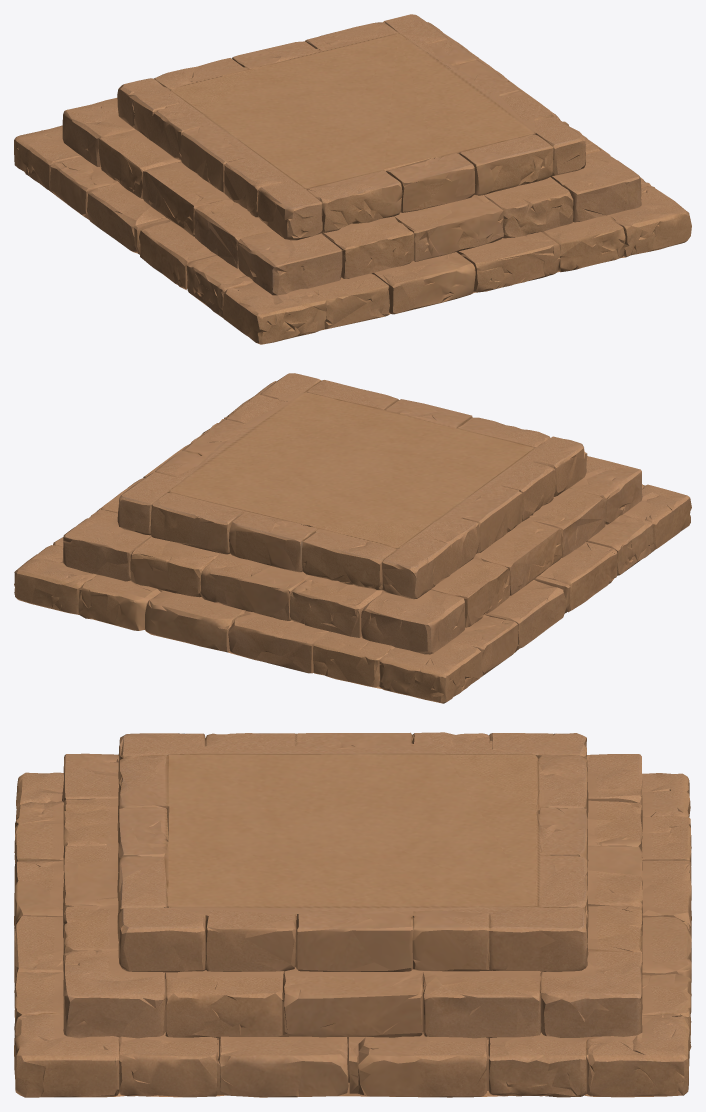
The model's file is terrace.glb.
3 views of the same model, one above another, from view 1: azimuth 30°, elevation 25°; view 2: azimuth 150°, elevation 25°; view 3: azimuth 270°, elevation 25° (orthographic). The views are drawn at different scales.
Size of the model in its own units: 1.9 by 0.4006 by 1.9.
Materials: 1 (1 with a texture image).
